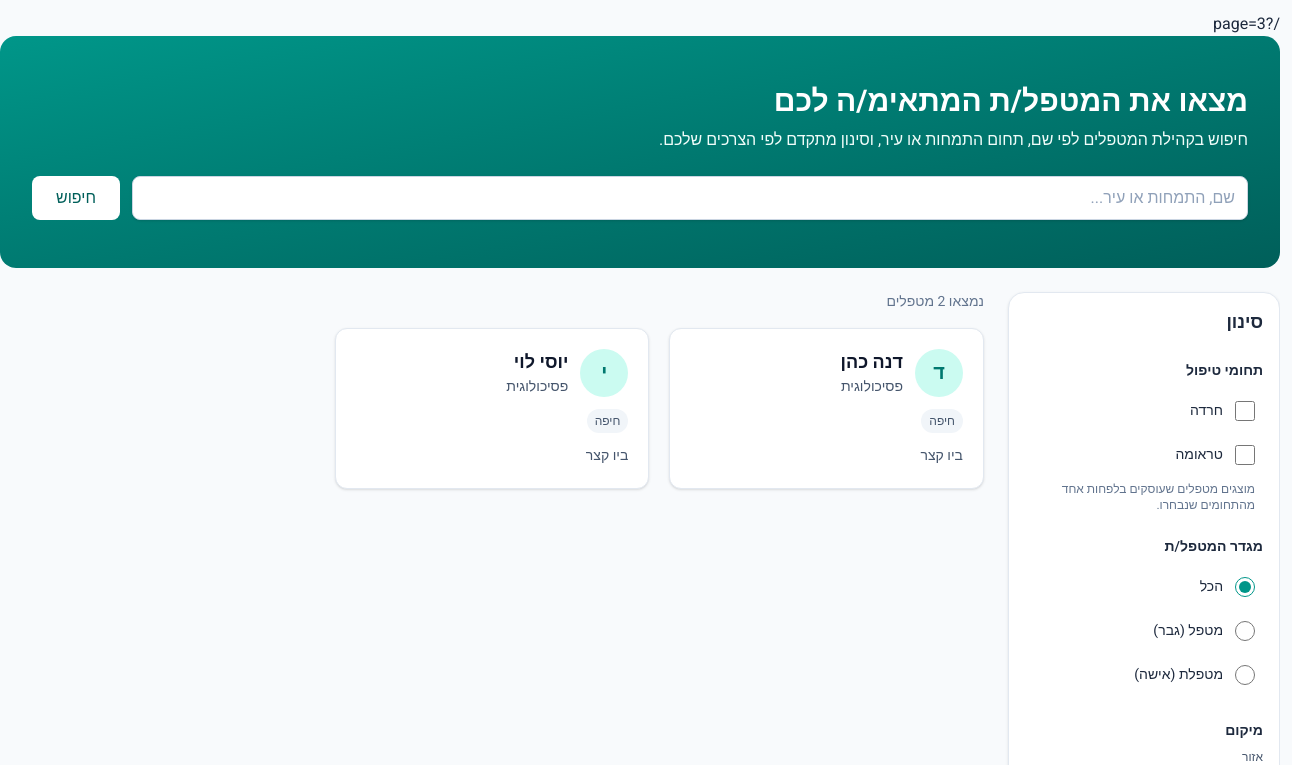
it: Home: changing filters › selecting a category searches again from page 1 and updates the URL
The width and height of the screenshot is (1292, 765).
Expected: the text "נמצאו 2 מטפלים" is shown, 886,291 -> 984,312
Click the checkbox labelled "חרדה" at coordinates (1245, 411), box 1235,401 -> 1255,421
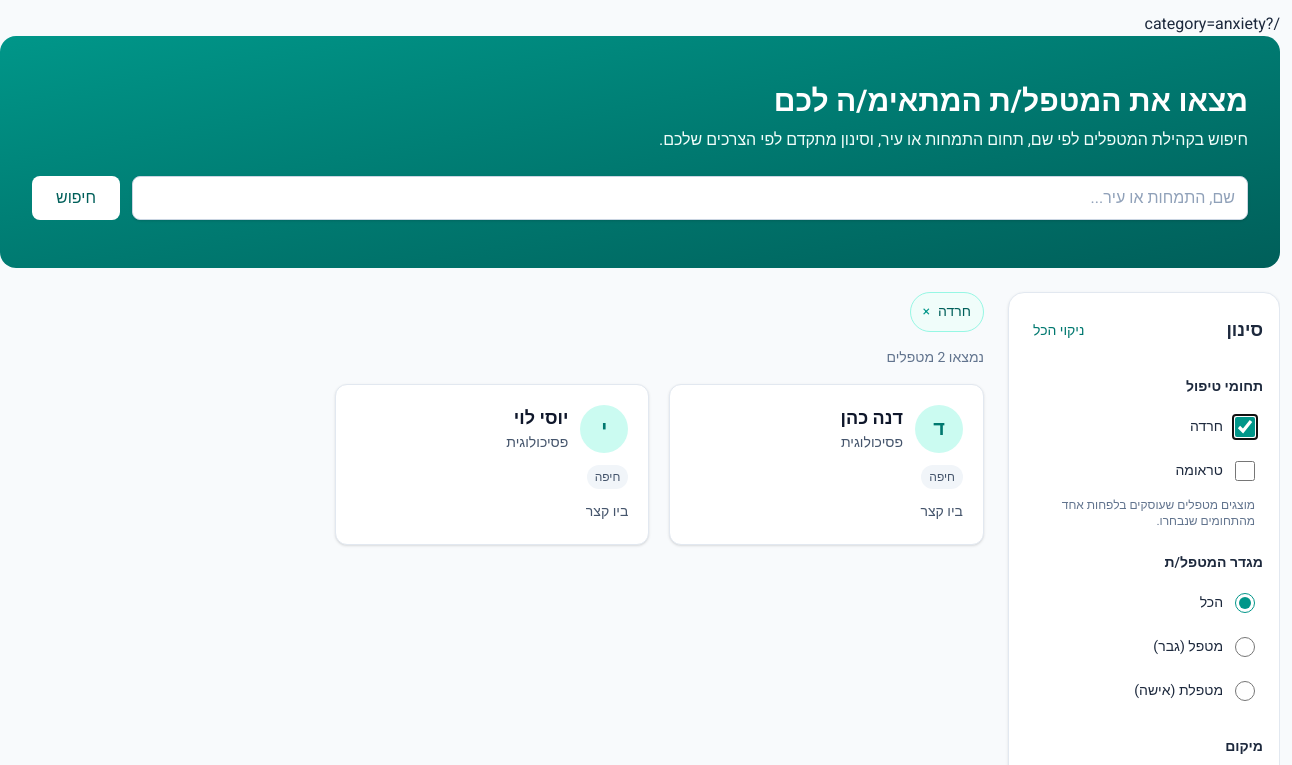
Expected: the text with test id "location" reads "/?category=anxiety", 1144,12 -> 1280,36
